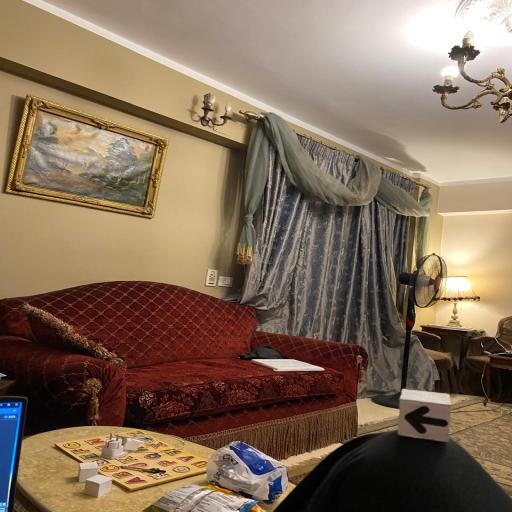Back: (397, 389, 450, 442)
